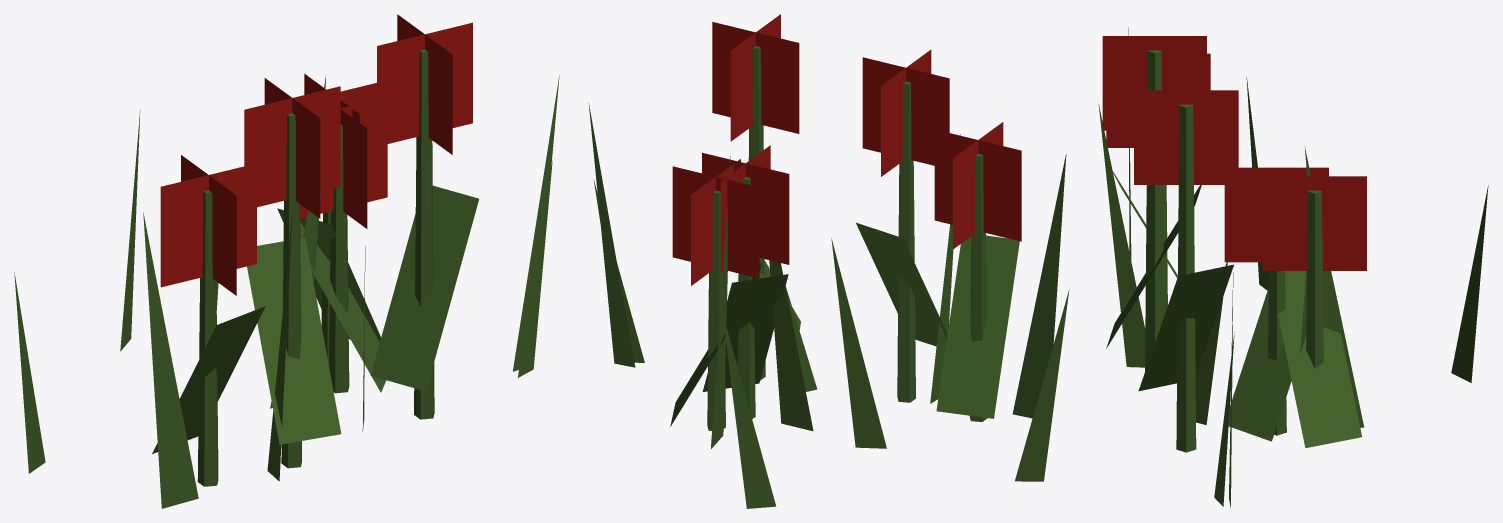
File: flower_red_patch.obj
3 views of the same model, side by side, from view 1: azimuth 30°, elevation 25°; view 2: azimuth 150°, elevation 25°; view 3: azimuth 270°, elevation 25° (orthographic). The views are drawn at different scales.
Visible parts, largest first — view 1: flower_red_patch; view 2: flower_red_patch; view 3: flower_red_patch.
Boxes of the visible parts, left/top/right/bottom form: flower_red_patch: left=14, top=14, right=559, bottom=508; flower_red_patch: left=588, top=14, right=1069, bottom=508; flower_red_patch: left=1098, top=27, right=1488, bottom=507.
Bounding box in the file's own units: 0.5597 × 0.3783 × 0.3739.
